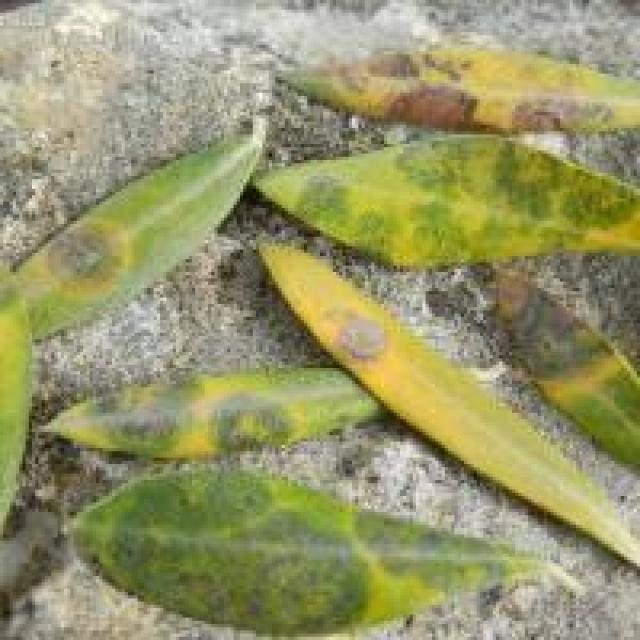Peacock Eye: (259, 243, 637, 566), (80, 470, 467, 634), (19, 118, 266, 336), (262, 141, 637, 266), (304, 35, 637, 131), (48, 368, 355, 458), (496, 272, 637, 467)
